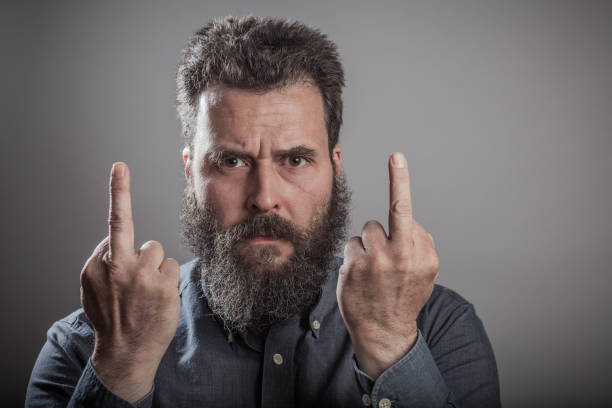insulting_gesture: (80, 162, 182, 365), (338, 149, 438, 337)
